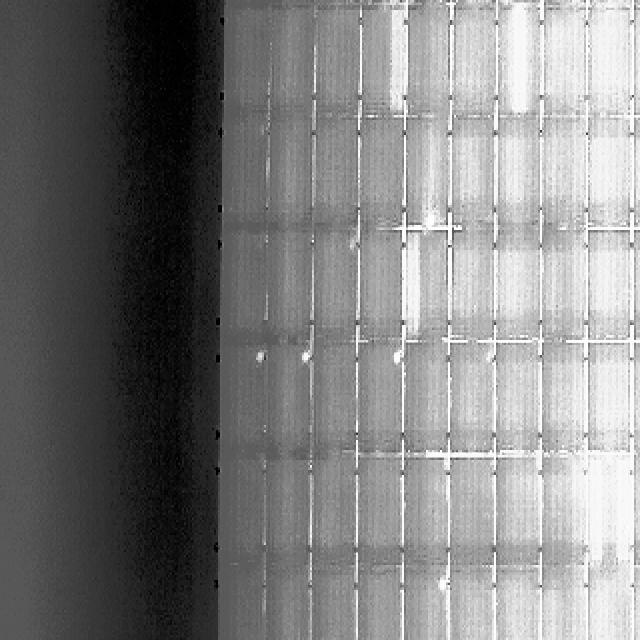Hotspots: (402, 231, 422, 333), (390, 10, 407, 114), (382, 345, 399, 367), (422, 211, 440, 230), (432, 570, 448, 591), (256, 346, 270, 366), (298, 349, 312, 368)
PV-modules: (265, 231, 314, 345), (265, 346, 314, 459), (360, 456, 408, 571), (266, 456, 314, 570), (314, 120, 362, 234), (401, 344, 449, 458), (449, 455, 497, 569), (450, 344, 498, 458), (219, 228, 265, 346), (584, 453, 631, 568), (361, 339, 408, 454), (357, 120, 405, 232), (315, 230, 362, 344), (406, 120, 453, 234), (403, 455, 450, 569), (446, 224, 492, 340), (450, 116, 498, 227), (540, 231, 587, 344), (540, 455, 587, 568), (266, 115, 312, 230), (588, 117, 635, 229), (453, 5, 500, 117), (404, 228, 450, 342), (493, 228, 539, 342), (493, 454, 539, 568), (316, 8, 364, 117), (226, 5, 274, 114), (587, 341, 634, 452), (359, 7, 406, 118), (588, 231, 634, 344), (357, 229, 403, 342), (218, 455, 264, 568), (406, 7, 452, 120), (542, 119, 588, 232), (540, 342, 587, 452), (496, 5, 542, 117), (494, 119, 540, 231), (314, 454, 359, 568), (542, 7, 587, 121), (588, 10, 634, 120), (493, 342, 539, 452), (314, 345, 359, 457), (217, 348, 262, 460), (222, 115, 266, 228), (270, 6, 316, 114), (260, 570, 310, 640), (448, 571, 498, 640), (492, 571, 540, 640), (354, 571, 402, 640), (542, 570, 588, 640), (309, 572, 356, 640), (588, 571, 634, 640), (402, 571, 448, 640), (221, 574, 268, 640), (630, 453, 640, 565), (630, 228, 640, 340), (630, 343, 640, 455), (630, 567, 640, 640), (266, 0, 314, 5), (406, 0, 452, 5), (316, 0, 362, 5), (584, 0, 630, 5), (542, 0, 588, 5), (638, 120, 640, 232), (224, 0, 268, 5), (638, 7, 640, 115), (358, 0, 406, 2), (494, 0, 542, 2), (452, 0, 498, 2), (636, 0, 640, 8)
